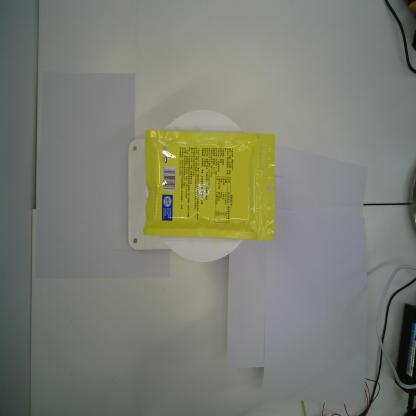Dried Fruit: (139, 128, 277, 244)
